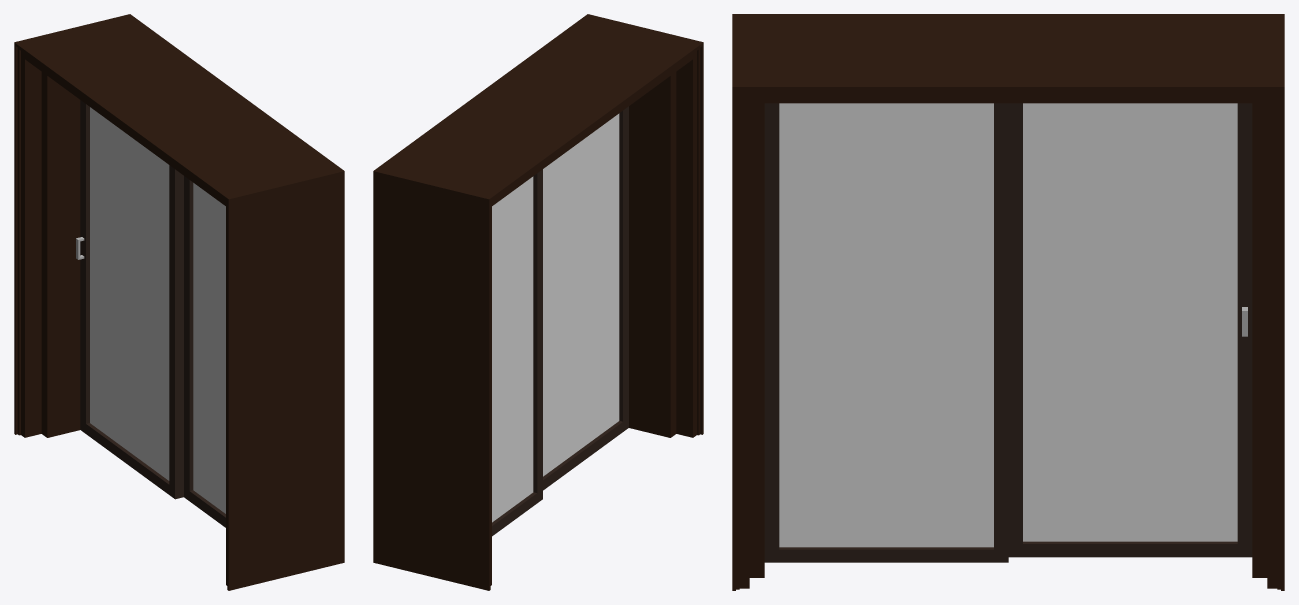
The model's file is SlidingDoors (2).fbx.
3 renders of one model, left to right at view 1: azimuth 30°, elevation 25°; view 2: azimuth 150°, elevation 25°; view 3: azimuth 270°, elevation 25°, orthographic. The views are drawn at different scales.
Parts seen in each view (by area): view 1: DoorFrame.002, Cube.006, Cube.004, Cube.002, Cube.003; view 2: DoorFrame.002, Cube.004, Cube.006, Cube.003, Cube.002; view 3: Cube.004, Cube.006, DoorFrame.002, Cube.003, Cube.002.
Part boxes in pixels (x1,y1,x2,y2): DoorFrame.002: (14,14,344,590); Cube.006: (90,107,169,480); Cube.004: (193,183,225,513); Cube.002: (80,100,183,499); Cube.003: (184,176,225,527); DoorFrame.002: (373,14,703,590); Cube.004: (543,113,619,476); Cube.006: (492,176,533,522); Cube.003: (543,106,628,490); Cube.002: (492,169,542,536); Cube.004: (779,103,993,547); Cube.006: (1023,103,1237,541); DoorFrame.002: (732,14,1284,590); Cube.003: (764,103,1008,562); Cube.002: (1008,103,1252,557).
Size of the model in its own units: 93.6 by 302 by 300.
